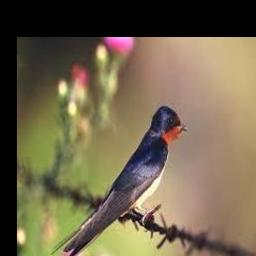Swallow: (51, 107, 188, 256)
